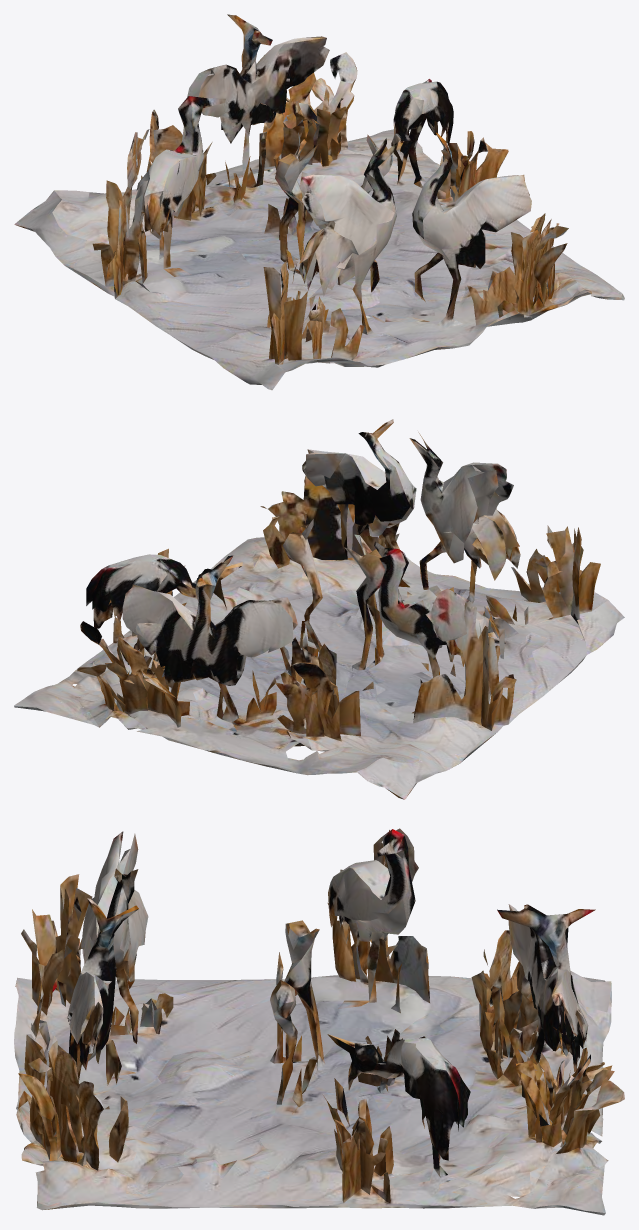
The model's file is kushiro-crane-reserve.glb.
3 renders of one model, top to bottom at view 1: azimuth 30°, elevation 25°; view 2: azimuth 150°, elevation 25°; view 3: azimuth 270°, elevation 25°, orthographic. The views are drawn at different scales.
Visible parts, largest first — view 1: logan-textured.obj; view 2: logan-textured.obj; view 3: logan-textured.obj.
Part boxes in pixels (x1,y1,x2,y2): logan-textured.obj: (14,14,624,390); logan-textured.obj: (14,419,624,799); logan-textured.obj: (14,828,624,1215).
Bounding box in the file's own units: 0.9448 × 0.4081 × 1.
Materials: 1 (1 with a texture image).
